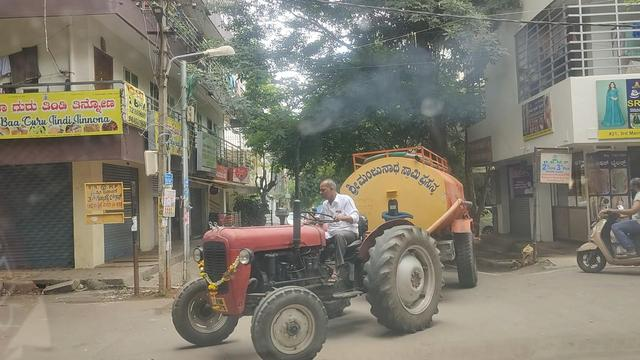HMV: (152, 134, 487, 358)
